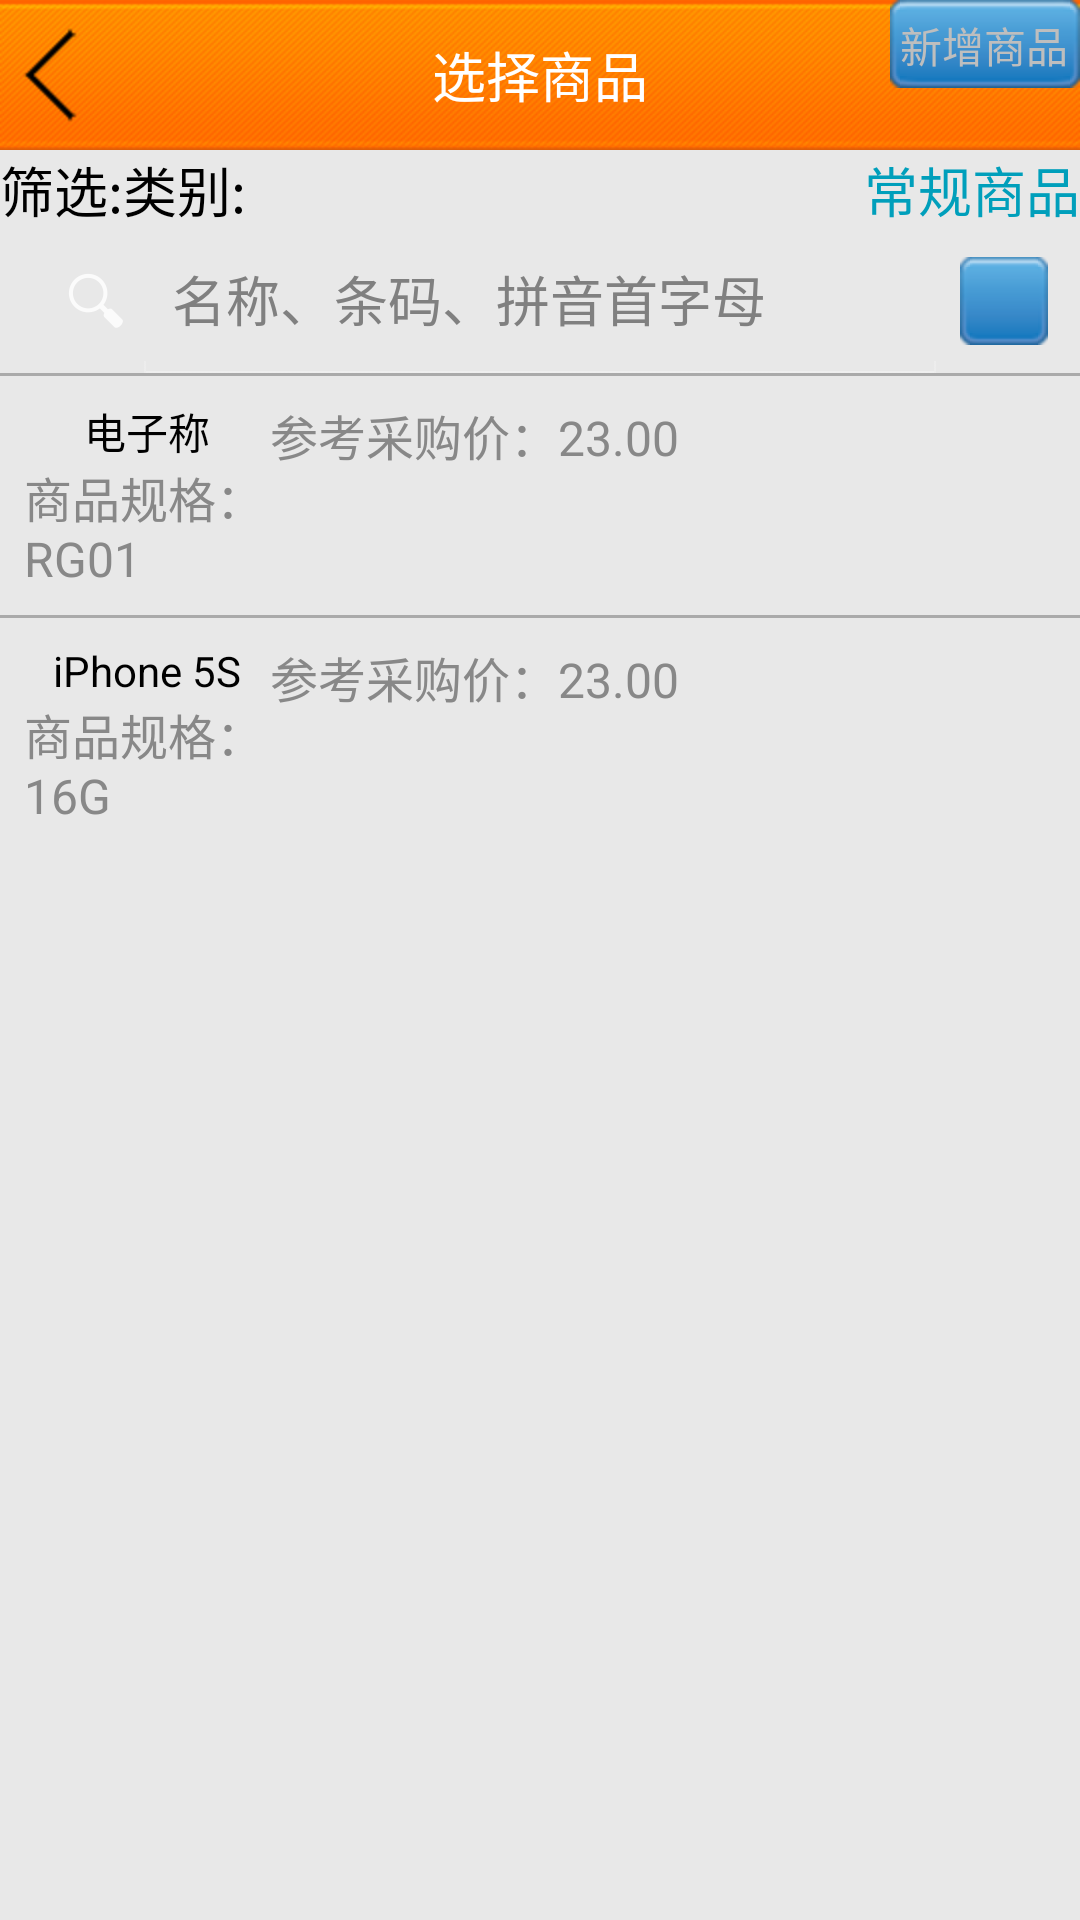

Icon click points for this 1080 × 1920 phone screenshot, format (x,y):
back: (50,77)
